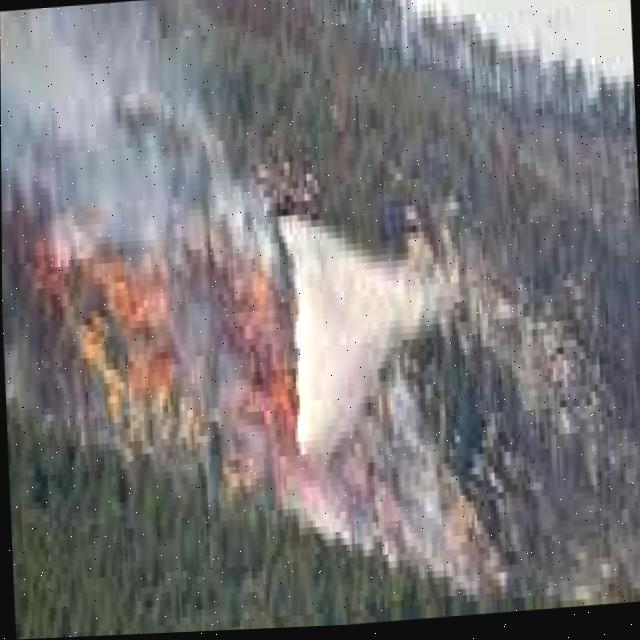smoke: (0, 0, 279, 479), (279, 222, 428, 543)
